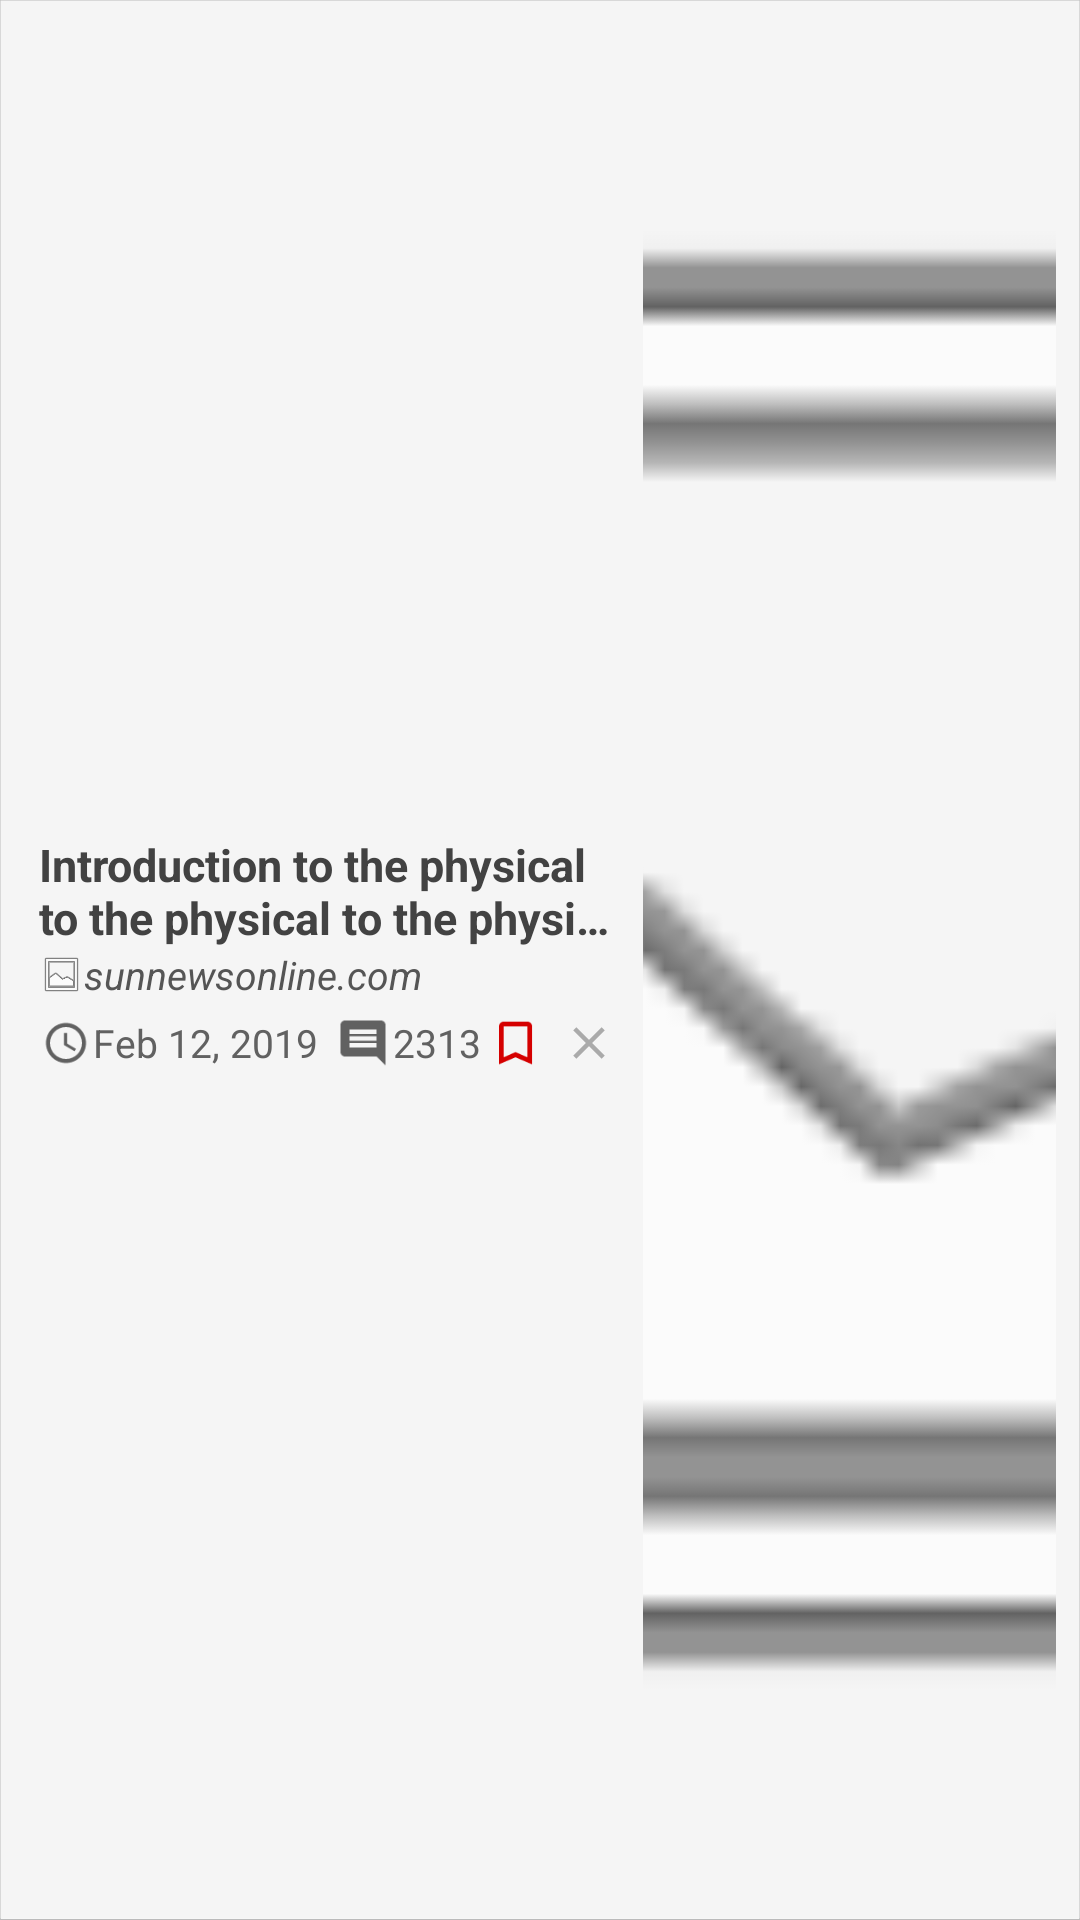

Icon bounding boxes for this 1080px×1920px phone screenshot, format (x1, y1, x2, y2):
access time: (45, 1022, 87, 1064)
bookmark border: (499, 1021, 532, 1065)
clear: (573, 1027, 605, 1059)
comment: (340, 1020, 386, 1065)
